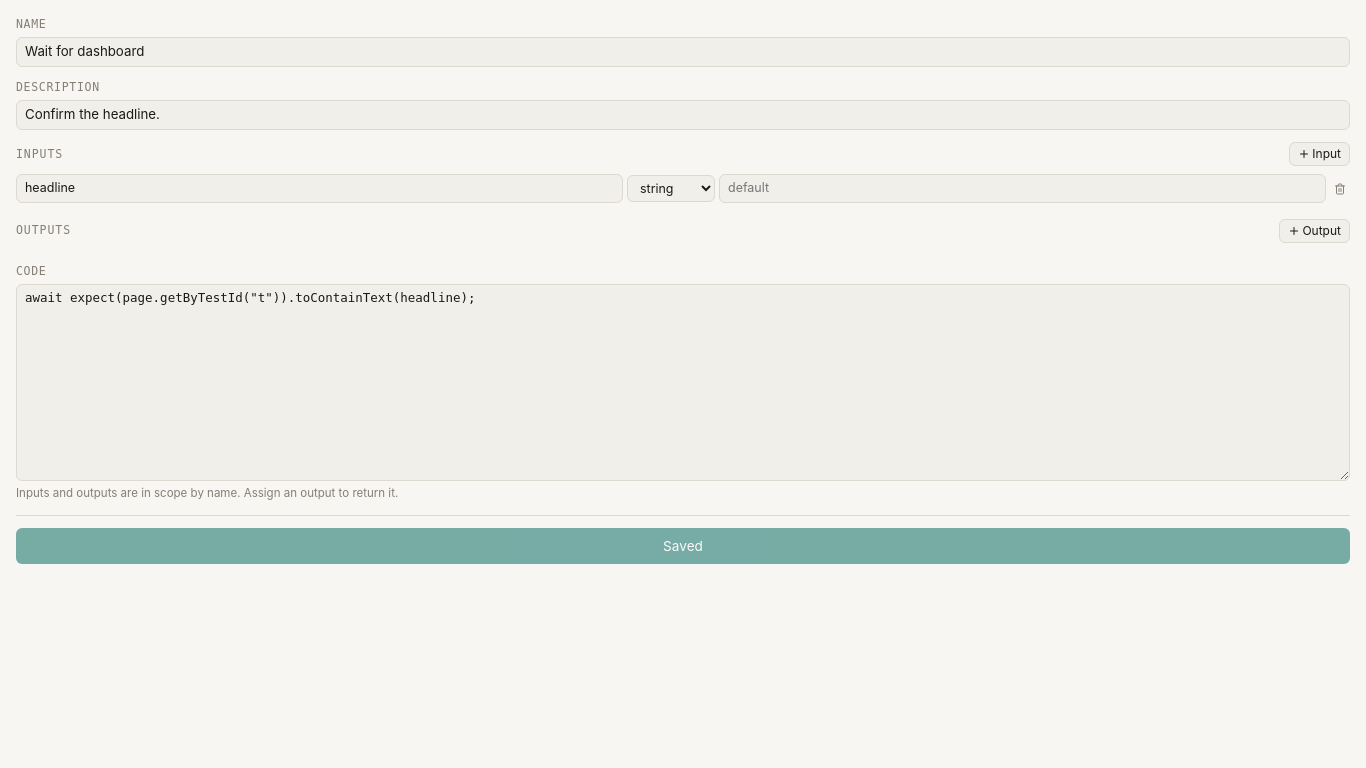
Test case: saving › reports a failed save and keeps the draft
Replace the text in the field showing "Wait for dashboard" with "Renamed". click: coordinates (683, 52)
box: [16,37,1350,67]
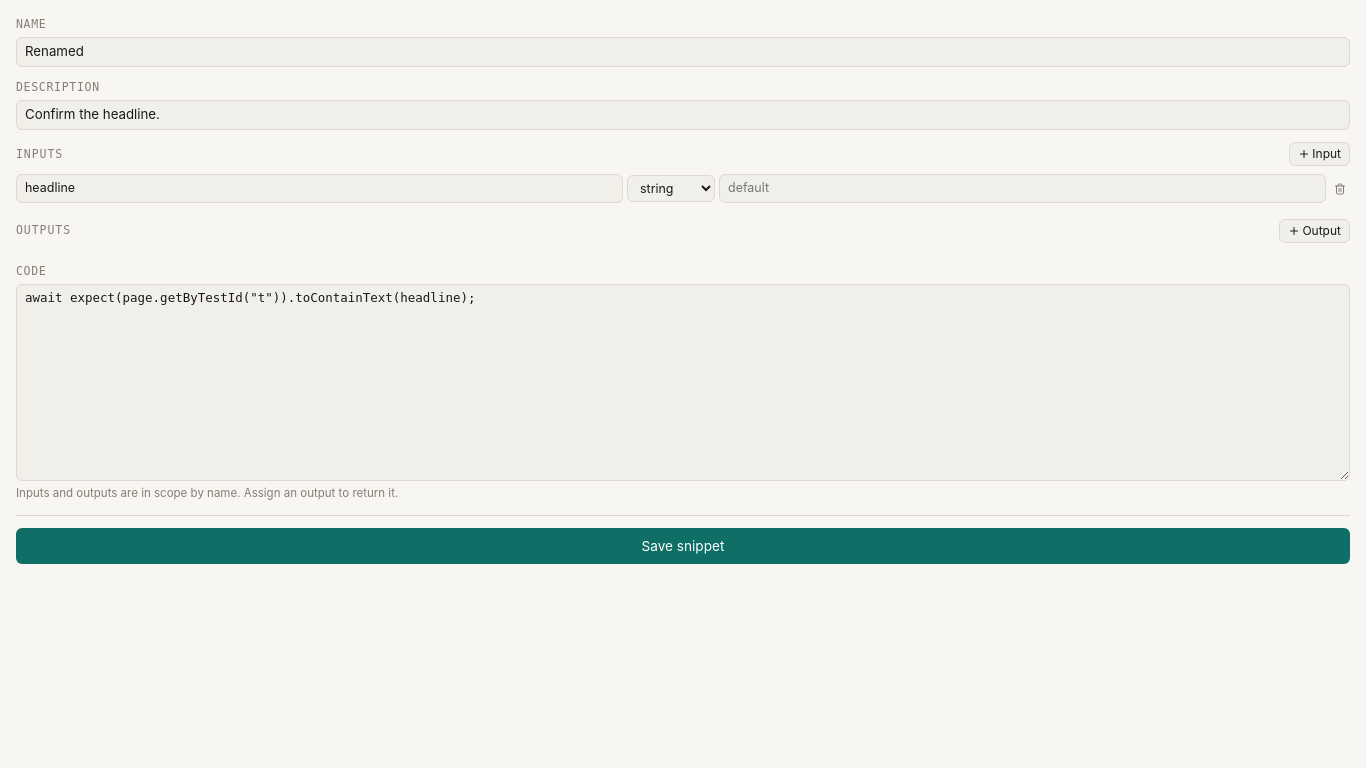
Click the button "Save snippet". click: coordinates (683, 546)
box: [16,528,1350,564]
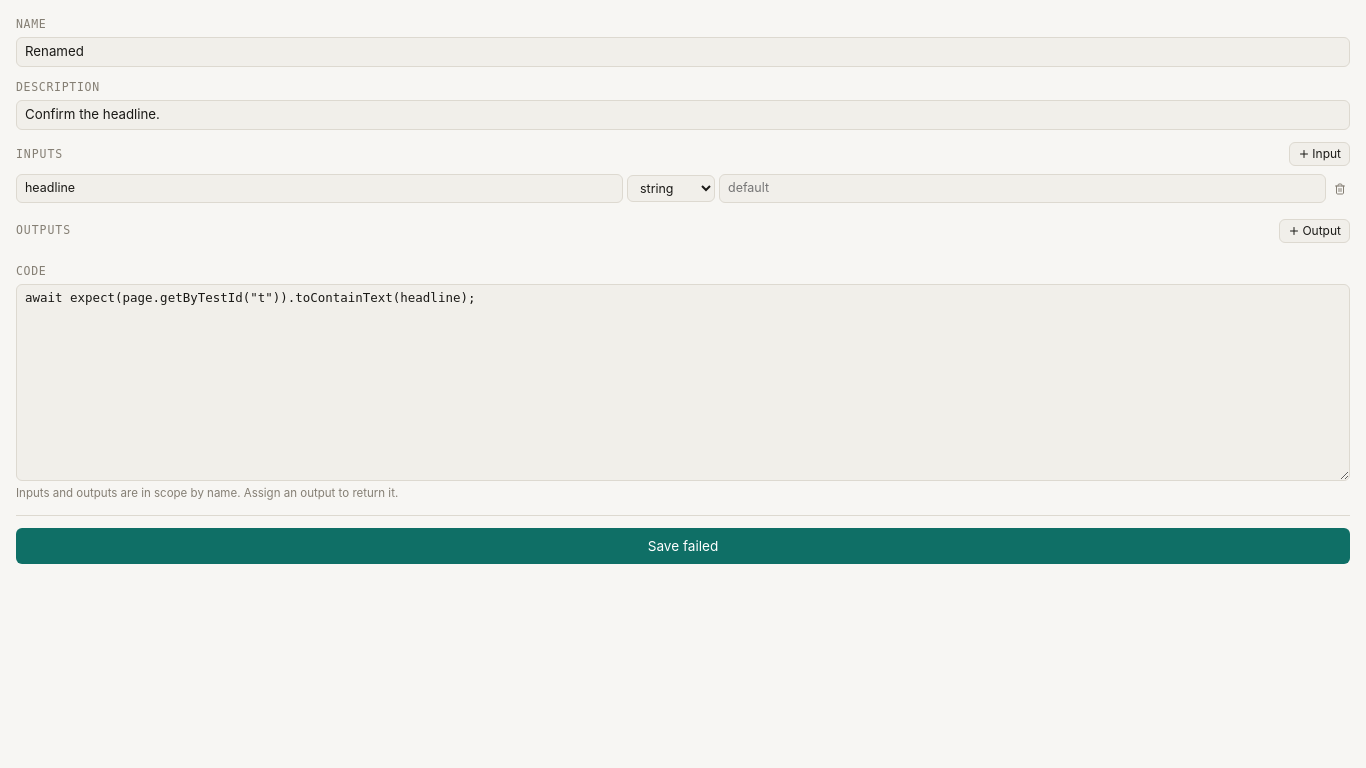
Check: the button "Save failed" is shown, box [16,528,1350,564]
